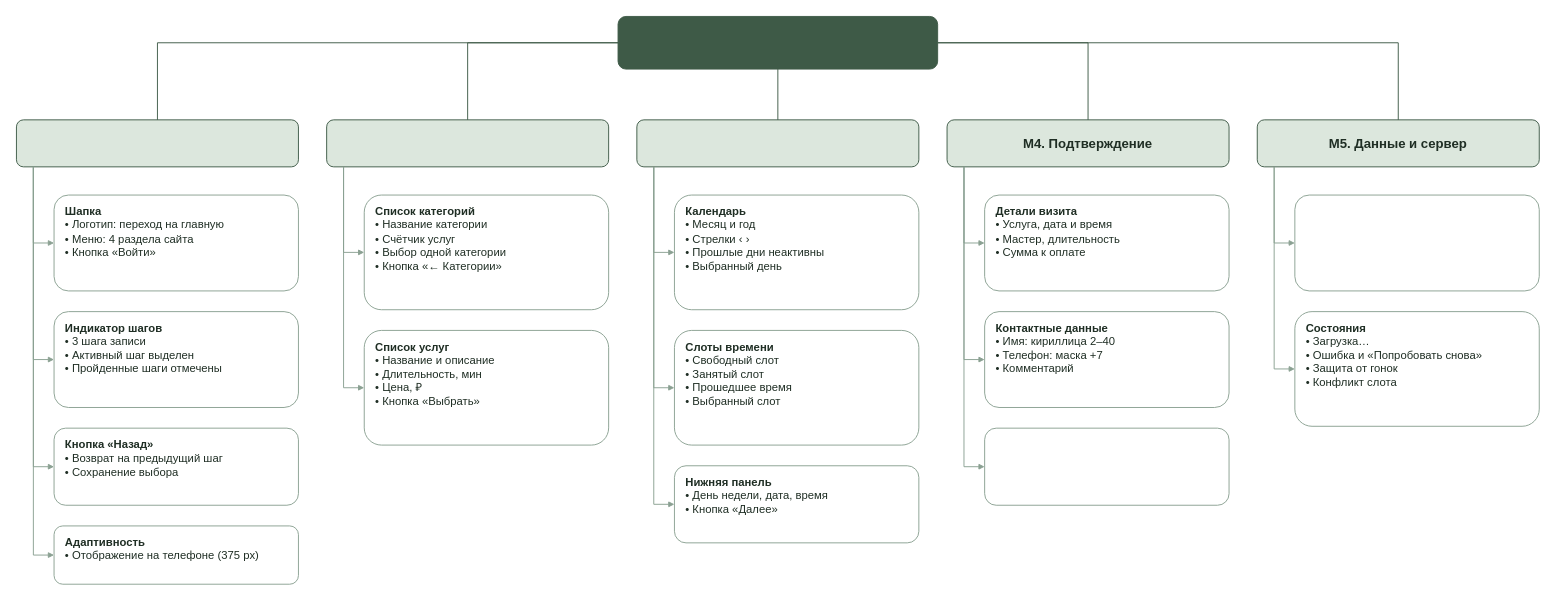
Some shapes in this 1556 by 601 pixel diagram are drawn without their labels. Here are the shapes that lost their labels. From the top down, the centre of each, then its label:
At (x=777, y=42): "Запись в салон ÉLAIRE".
At (x=157, y=143): "М1. Каркас и навигация".
At (x=467, y=143): "М2. Выбор услуги".
At (x=777, y=143): "М3. Дата и время".
At (x=1416, y=242): "Запросы • «Сегодня» с сервера • Слоты на дату • Создание записи".
At (x=1106, y=466): "Подтверждение • Кнопка «Подтвердить запись» • Сообщение об успехе".
